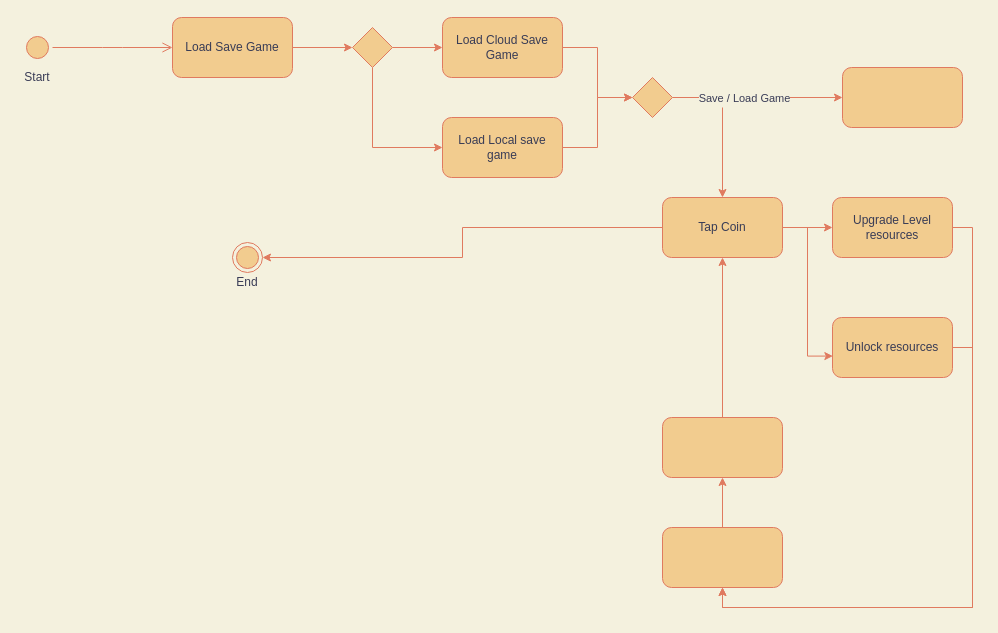
Some shapes in this 998 by 633 pixel diagram are drawn without their labels. Here are the shapes that lost their labels. From the top down, the centre of each, then its label:
point (902, 97): Otomatis ambil coin setiap detik
point (722, 447): Meningkatkan coin
point (722, 557): Coin tidak mencukupi
